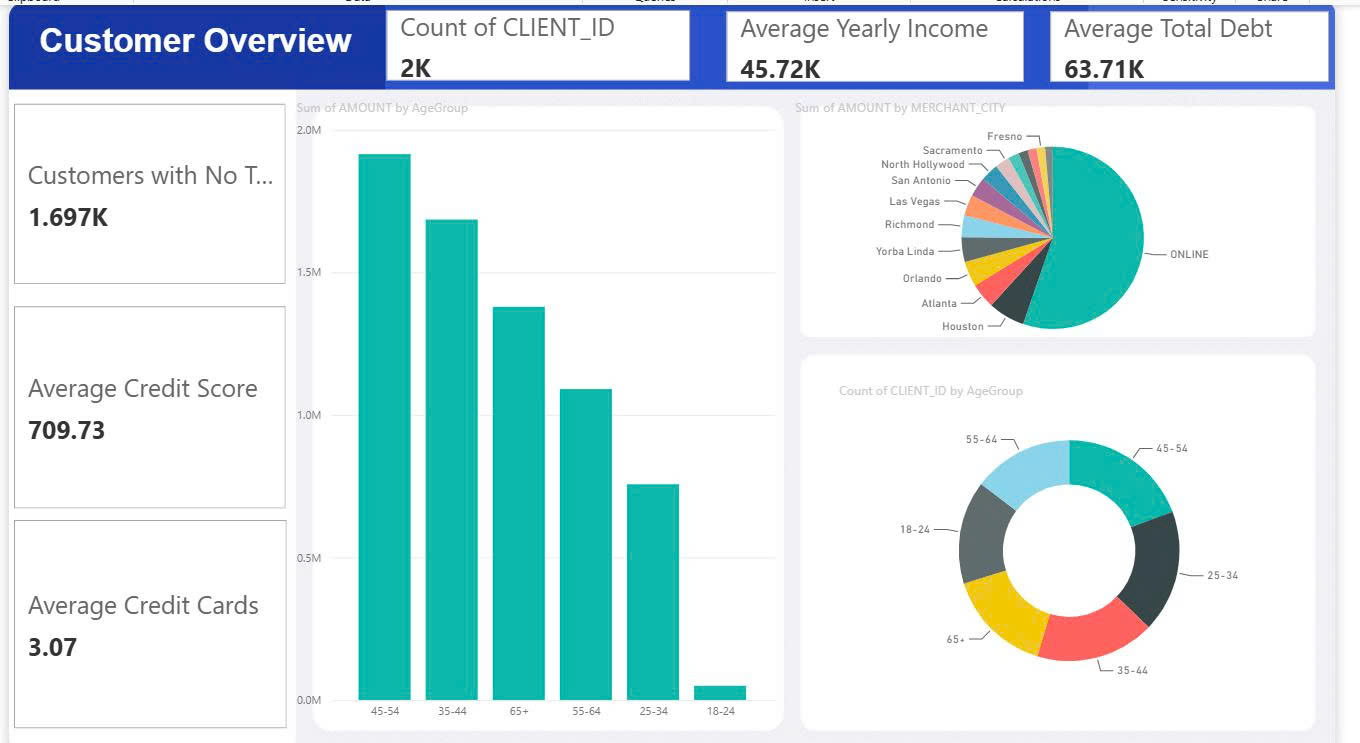

The page's visual inventory and layout, read from the dashboard file:
{"tool":"powerbi","page":{"name":"Overview","canvas":[1280,720],"ordinal":0},"visuals":[{"type":"textbox","box":[0,12.3,359.5,56.3],"z":0},{"type":"cardVisual","fields":{"Data":["Count(OVERALL_CUSTOMER.CLIENT_ID)"]},"box":[359.5,0,303.3,78.2],"z":1000},{"type":"cardVisual","fields":{"Data":["OVERALL_CUSTOMER.Average Yearly Income"]},"box":[687.5,1.4,297.8,78.2],"z":2000},{"type":"cardVisual","fields":{"Data":["OVERALL_CUSTOMER.Average Total Debt"]},"box":[1000.3,1.4,279.9,78.2],"z":3000},{"type":"clusteredColumnChart","fields":{"Category":["OVERALL_CUSTOMER.AgeGroup"],"Y":["Sum(OVERALL_CUSTOMER.AMOUNT)"]},"box":[272.9,90,471.4,608.6],"z":4000},{"type":"pieChart","fields":{"Category":["OVERALL_CUSTOMER.MERCHANT_CITY"],"Y":["Sum(OVERALL_CUSTOMER.AMOUNT)"]},"box":[754.3,90,507.1,252.9],"z":5000},{"type":"cardVisual","fields":{"Data":["OVERALL_CUSTOMER.Customers with No Transactions"]},"box":[0,90,272.9,184.3],"z":6000},{"type":"donutChart","fields":{"Category":["OVERALL_CUSTOMER.AgeGroup"],"Y":["Count(OVERALL_CUSTOMER.CLIENT_ID)"]},"box":[795.7,362.9,454.3,311.4],"z":7000},{"type":"cardVisual","fields":{"Data":["OVERALL_CUSTOMER.Average Credit Score"]},"box":[0,285.7,272.9,205.7],"z":8000},{"type":"cardVisual","fields":{"Data":["OVERALL_CUSTOMER.Average Credit Cards"]},"box":[0,492,273,211],"z":9000}]}

Visuals, with their boxes on the page's 1280x720 design canvas (x1, y1, x2, y2). These are canvas units, not pixel positions in the 1360x743 screenshot, which may show the page scaled, cropped or inside an application window:
textbox: x1=0, y1=12, x2=360, y2=69
cardVisual - Count(OVERALL_CUSTOMER.CLIENT_ID): x1=360, y1=0, x2=663, y2=78
cardVisual - OVERALL_CUSTOMER.Average Yearly Income: x1=688, y1=1, x2=985, y2=80
cardVisual - OVERALL_CUSTOMER.Average Total Debt: x1=1000, y1=1, x2=1280, y2=80
clusteredColumnChart - OVERALL_CUSTOMER.AgeGroup x Sum(OVERALL_CUSTOMER.AMOUNT): x1=273, y1=90, x2=744, y2=699
pieChart - OVERALL_CUSTOMER.MERCHANT_CITY x Sum(OVERALL_CUSTOMER.AMOUNT): x1=754, y1=90, x2=1261, y2=343
cardVisual - OVERALL_CUSTOMER.Customers with No Transactions: x1=0, y1=90, x2=273, y2=274
donutChart - OVERALL_CUSTOMER.AgeGroup x Count(OVERALL_CUSTOMER.CLIENT_ID): x1=796, y1=363, x2=1250, y2=674
cardVisual - OVERALL_CUSTOMER.Average Credit Score: x1=0, y1=286, x2=273, y2=491
cardVisual - OVERALL_CUSTOMER.Average Credit Cards: x1=0, y1=492, x2=273, y2=703
